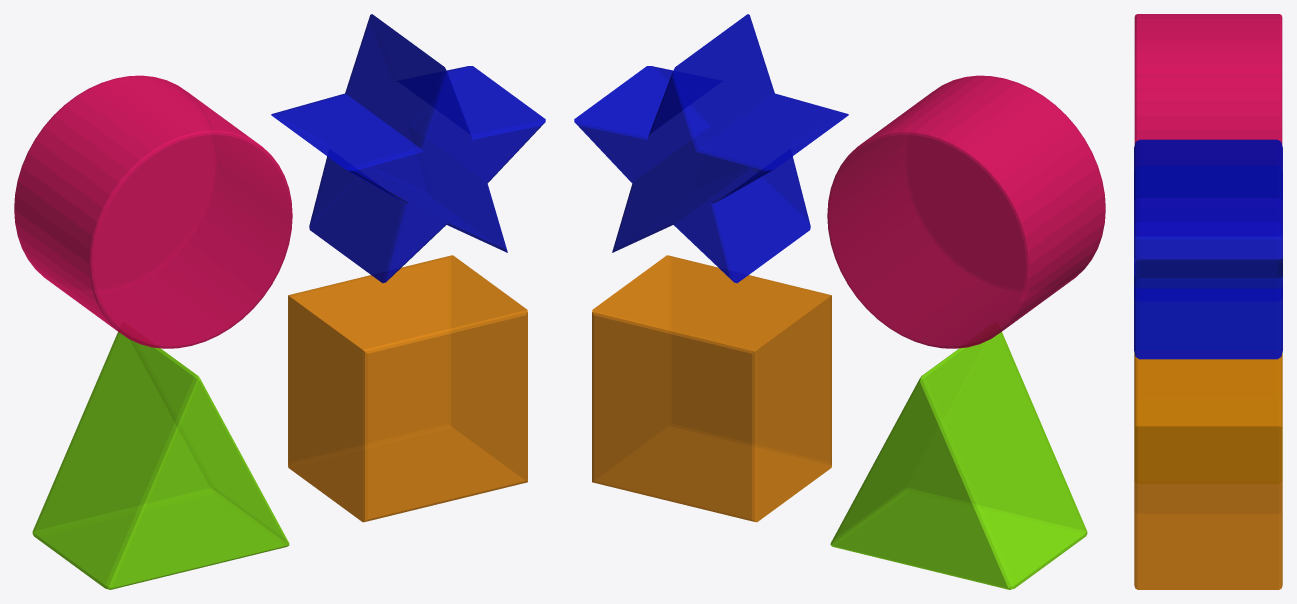
The model's file is ShapeDrop_FinalAssets-AIPowerUp.fbx.
The picture shows the model from 3 angles, left to right: view 1: azimuth 30°, elevation 25°; view 2: azimuth 150°, elevation 25°; view 3: azimuth 270°, elevation 25°; orthographic projection. The views are drawn at different scales.
Visible parts, largest first — view 1: CirclePlayer - Mat.001, CubePlayer - Mat.001, TrianglePlayer - Mat.001, StarPlayer - Mat.001; view 2: CirclePlayer - Mat.001, CubePlayer - Mat.001, TrianglePlayer - Mat.001, StarPlayer - Mat.001; view 3: CubePlayer - Mat.001, StarPlayer - Mat.001, CirclePlayer - Mat.001.
Part boxes in pixels (<box>): CirclePlayer - Mat.001: <box>14,75,292,348</box>; CubePlayer - Mat.001: <box>288,255,527,522</box>; TrianglePlayer - Mat.001: <box>32,332,289,589</box>; StarPlayer - Mat.001: <box>271,14,545,283</box>; CirclePlayer - Mat.001: <box>827,75,1105,348</box>; CubePlayer - Mat.001: <box>592,255,831,522</box>; TrianglePlayer - Mat.001: <box>830,332,1087,589</box>; StarPlayer - Mat.001: <box>574,14,848,283</box>; CubePlayer - Mat.001: <box>1134,354,1282,589</box>; StarPlayer - Mat.001: <box>1134,139,1282,359</box>; CirclePlayer - Mat.001: <box>1134,14,1282,144</box>.
Size of the model in its own units: 90.73 by 83.44 by 26.89.
